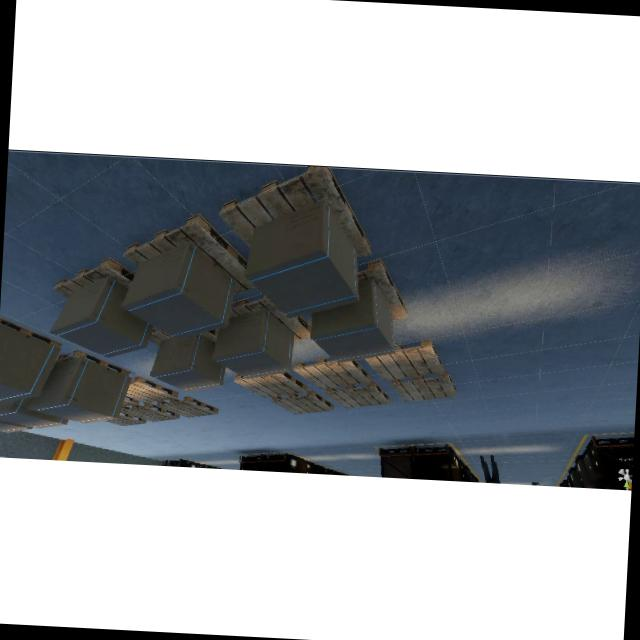wooden_pallet: (220, 166, 372, 260), (122, 215, 258, 297), (53, 256, 135, 299), (364, 339, 444, 382), (358, 258, 408, 321), (293, 358, 371, 389), (56, 349, 132, 377), (390, 372, 458, 403), (0, 317, 63, 350), (233, 372, 307, 398), (326, 383, 392, 410), (271, 390, 335, 414), (126, 376, 179, 404), (157, 397, 221, 418), (123, 403, 180, 423), (104, 412, 147, 427), (121, 396, 139, 408)
